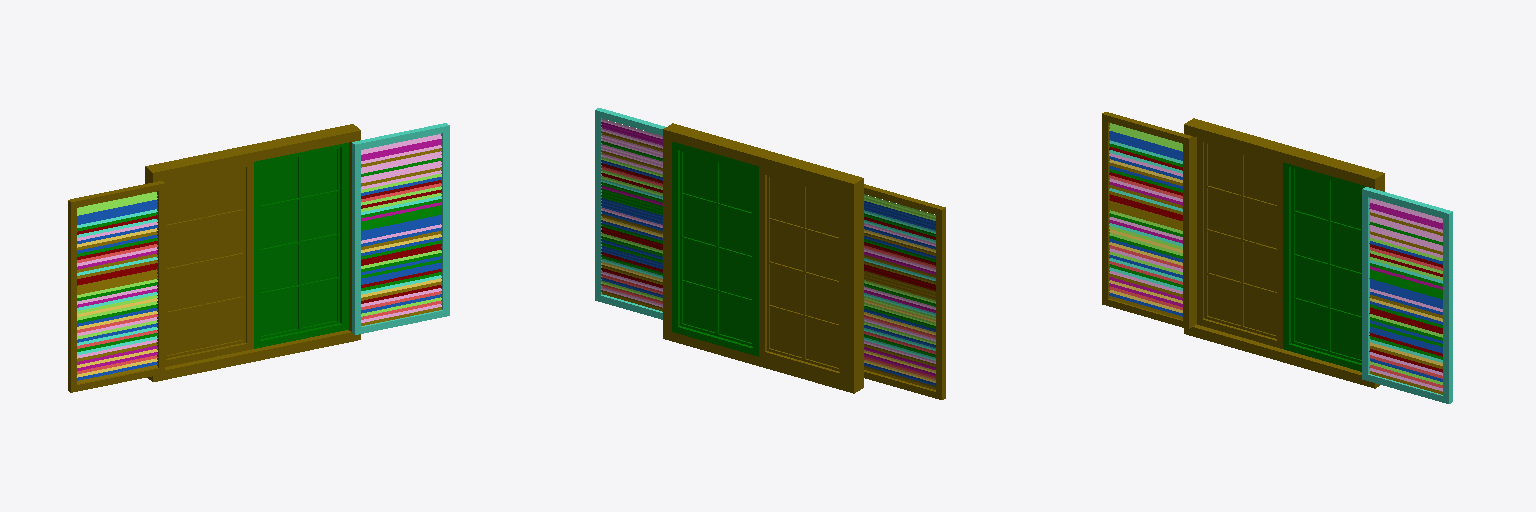
Rendered from win.obj.
3 views of the same model, side by side, from view 1: azimuth 30°, elevation 25°; view 2: azimuth 150°, elevation 25°; view 3: azimuth 330°, elevation 25° (orthographic).
Visible parts, largest first — view 1: Group_004, Group_005, Group_003, Group_002, Group_001; view 2: Group_004, Group_005, Group_003, Group_001, Group_002; view 3: Group_005, Group_004, Group_003, Group_002, Group_001.
Boxes of the visible parts, <box> form: Group_004: <box>254,143,348,348</box>; Group_005: <box>163,162,253,366</box>; Group_003: <box>145,124,360,381</box>; Group_002: <box>352,123,449,334</box>; Group_001: <box>68,181,164,392</box>; Group_004: <box>672,142,758,356</box>; Group_005: <box>759,167,845,381</box>; Group_003: <box>663,123,863,393</box>; Group_001: <box>864,184,945,399</box>; Group_002: <box>595,108,665,319</box>; Group_005: <box>1197,138,1282,348</box>; Group_004: <box>1283,162,1365,371</box>; Group_003: <box>1184,118,1384,388</box>; Group_002: <box>1362,187,1452,403</box>; Group_001: <box>1102,112,1192,328</box>.
Bounding box in the file's own units: 94.34 × 51.97 × 11.01.